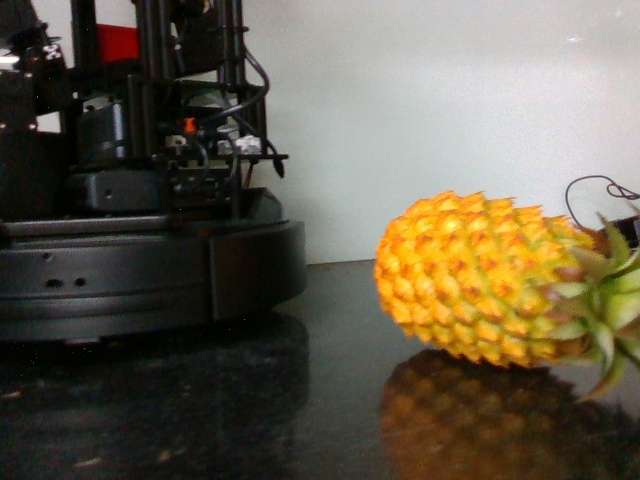pineapple: (367, 186, 640, 375)
